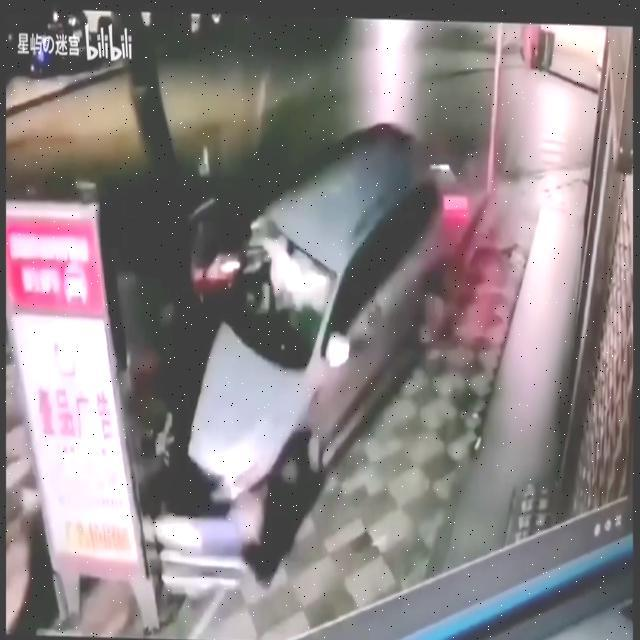single accident: (93, 107, 516, 550)
